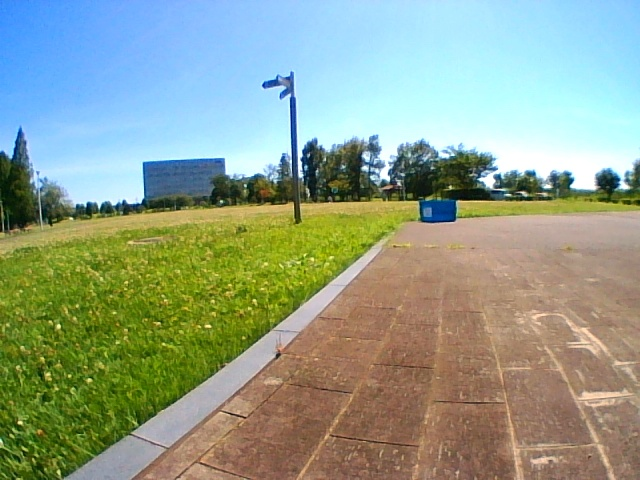blue_box: (421, 200, 455, 222)
tag: (422, 207, 431, 216)
